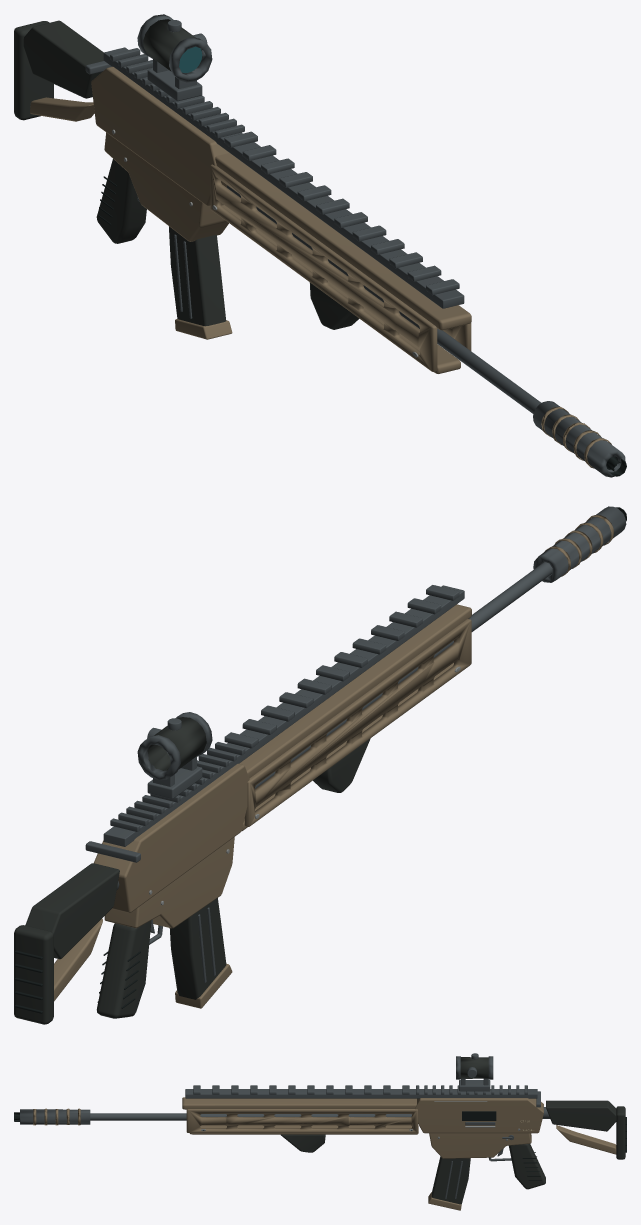
The model's file is m3_marksman.glb.
3 views of the same model, one above another, from view 1: azimuth 30°, elevation 25°; view 2: azimuth 150°, elevation 25°; view 3: azimuth 270°, elevation 25° (orthographic). The views are drawn at different scales.
Visible parts, largest first — view 1: m3_marksman_nc7_coating, m3_marksman_nc7_alloy, m3_marksman_nc7_polymer; view 2: m3_marksman_nc7_coating, m3_marksman_nc7_alloy, m3_marksman_nc7_polymer, m3_marksman_nc7_dark; view 3: m3_marksman_nc7_coating, m3_marksman_nc7_alloy, m3_marksman_nc7_polymer, m3_marksman_nc7_dark.
Part boxes in pixels (x1,y1,x2,y2): m3_marksman_nc7_coating: [30, 66, 611, 468]; m3_marksman_nc7_alloy: [85, 14, 625, 477]; m3_marksman_nc7_polymer: [14, 19, 359, 329]; m3_marksman_nc7_coating: [54, 515, 613, 1008]; m3_marksman_nc7_alloy: [85, 506, 626, 982]; m3_marksman_nc7_polymer: [14, 717, 370, 1024]; m3_marksman_nc7_dark: [14, 507, 626, 1013]; m3_marksman_nc7_coating: [33, 1097, 616, 1210]; m3_marksman_nc7_alloy: [20, 1053, 550, 1198]; m3_marksman_nc7_polymer: [281, 1057, 625, 1204]; m3_marksman_nc7_dark: [14, 1111, 626, 1180].
Bounding box in the file's own units: 0.0765 × 0.4145 × 1.51.
